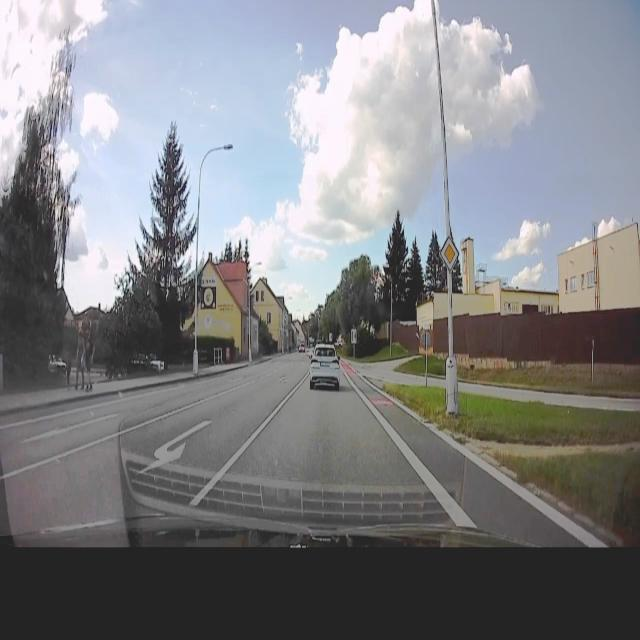Priority road: (439, 234, 460, 276)
